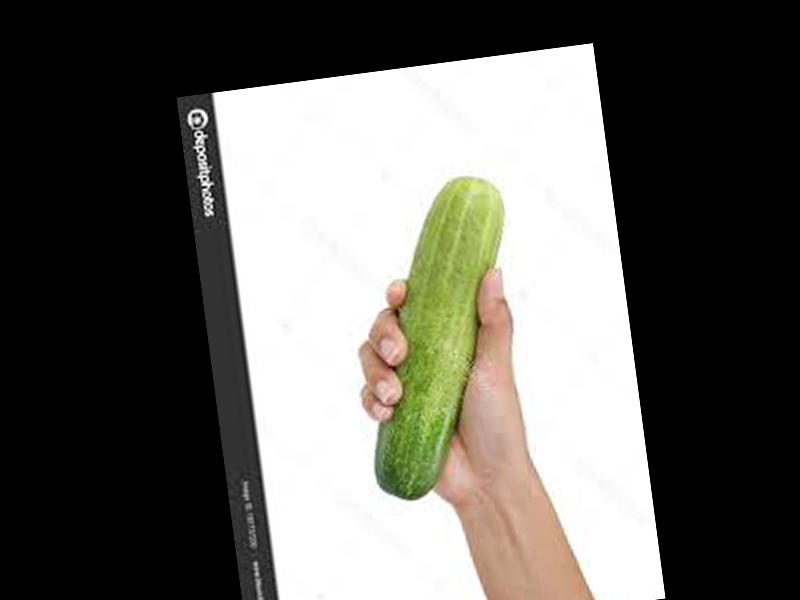Cucumber: (341, 173, 542, 504)
